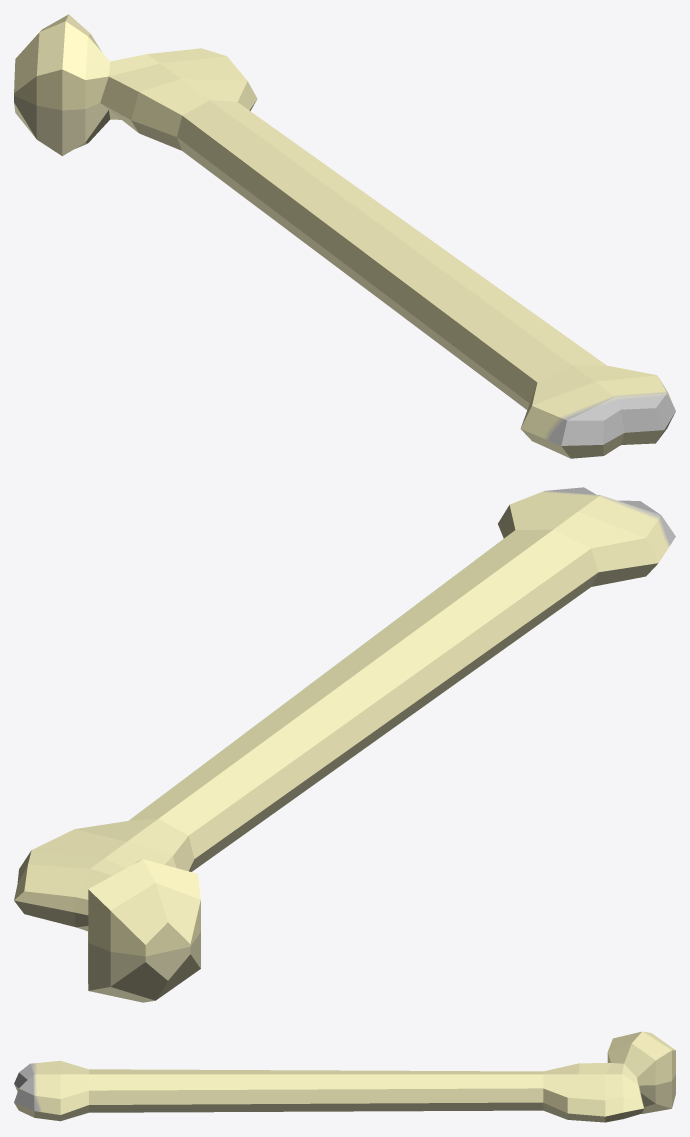
The model's file is Bone2.fbx.
The picture shows the model from 3 angles, top to bottom: view 1: azimuth 30°, elevation 25°; view 2: azimuth 150°, elevation 25°; view 3: azimuth 270°, elevation 25°; orthographic projection. The views are drawn at different scales.
Visible parts, largest first — view 1: pCube8; view 2: pCube8; view 3: pCube8.
Part boxes in pixels (x1,y1,x2,y2): pCube8: (14,14,675,458); pCube8: (14,487,675,1002); pCube8: (14,1031,675,1122).
Bounding box in the file's own units: 0.1568 × 0.1033 × 0.7505.
